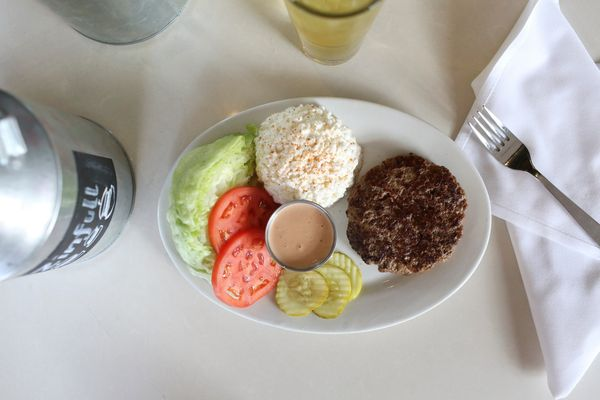pizza: (283, 0, 385, 65)
